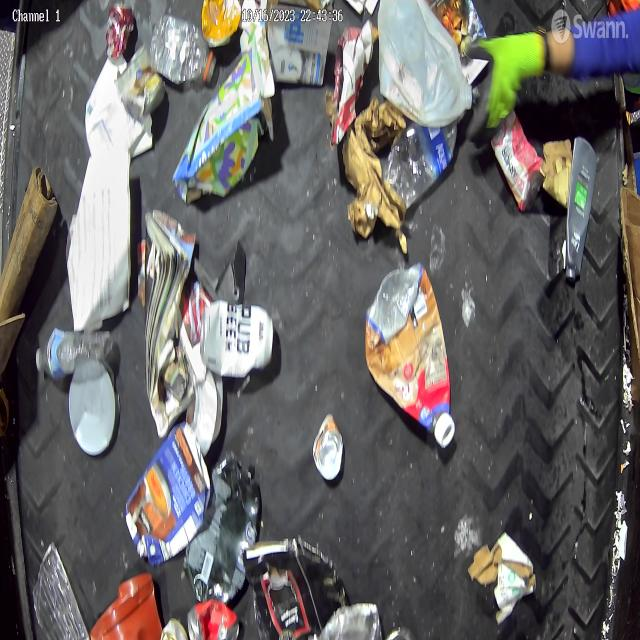can: (200, 299, 274, 378), (115, 43, 164, 115), (311, 414, 343, 484), (187, 598, 240, 640), (203, 0, 242, 48), (107, 3, 136, 60)
milk_jug: (378, 0, 474, 130)
non_white_jug: (125, 422, 212, 564), (185, 455, 262, 605)
plastic_bottle: (383, 118, 461, 210), (152, 15, 220, 86), (36, 327, 112, 379)
